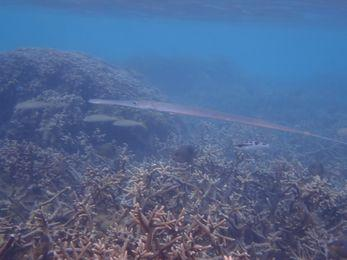Fistularia commersonii: (78, 51, 342, 134)
